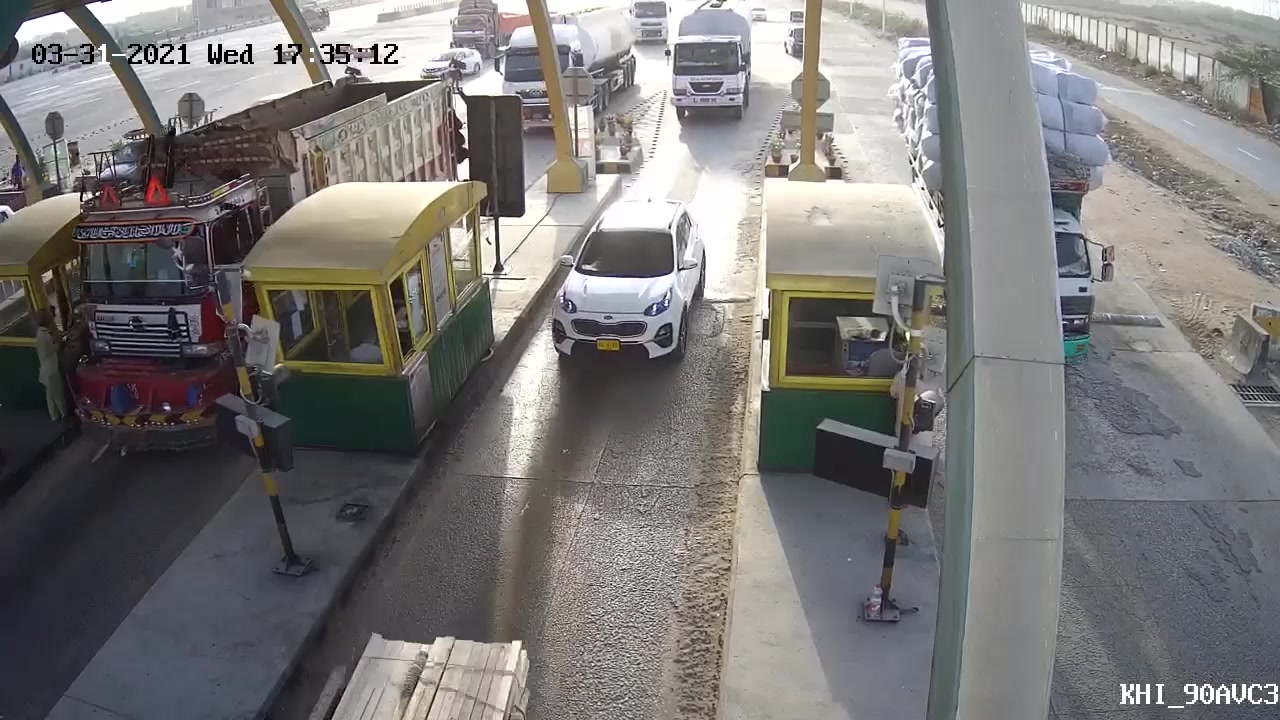F1: (552, 192, 703, 360)
